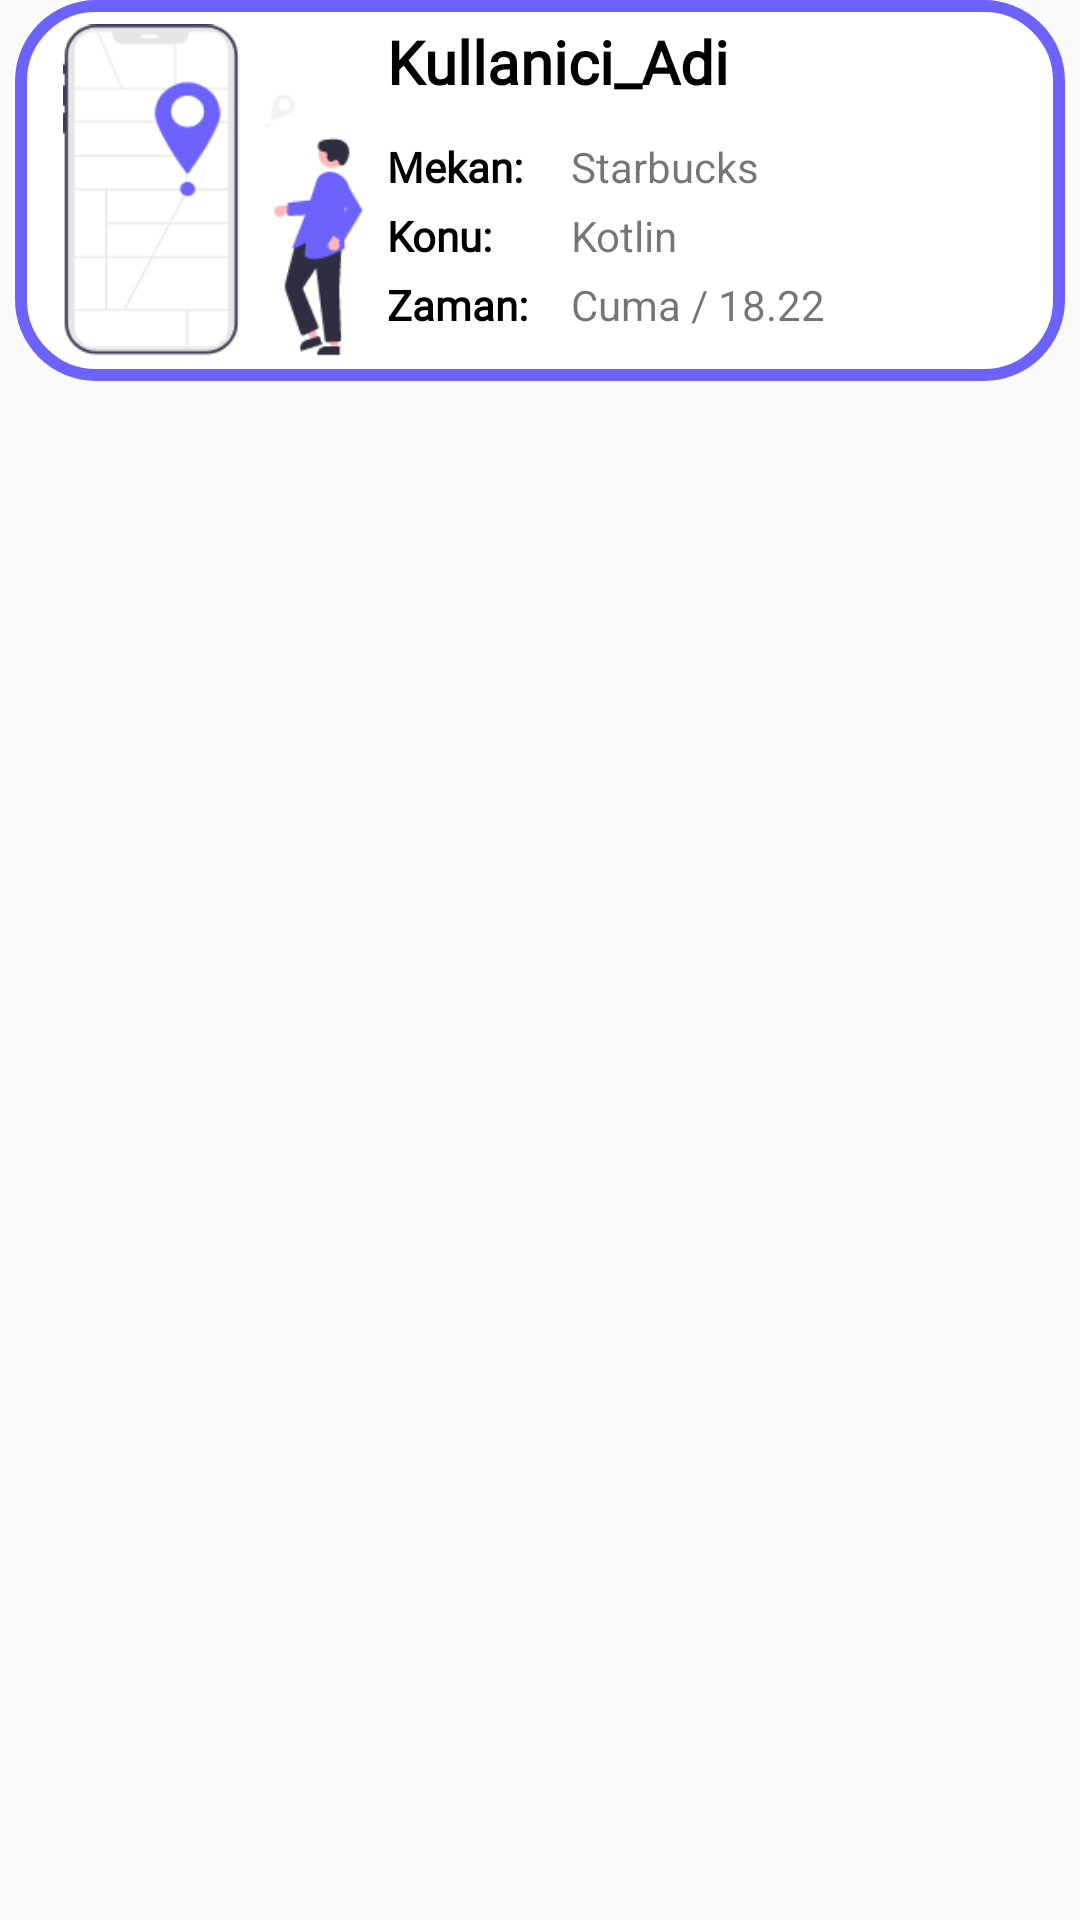

Icons on this 1080x1920 Android screen, each with its box as (x1, y1, x2, y2):
etkinlik resim: (63, 24, 363, 356)
